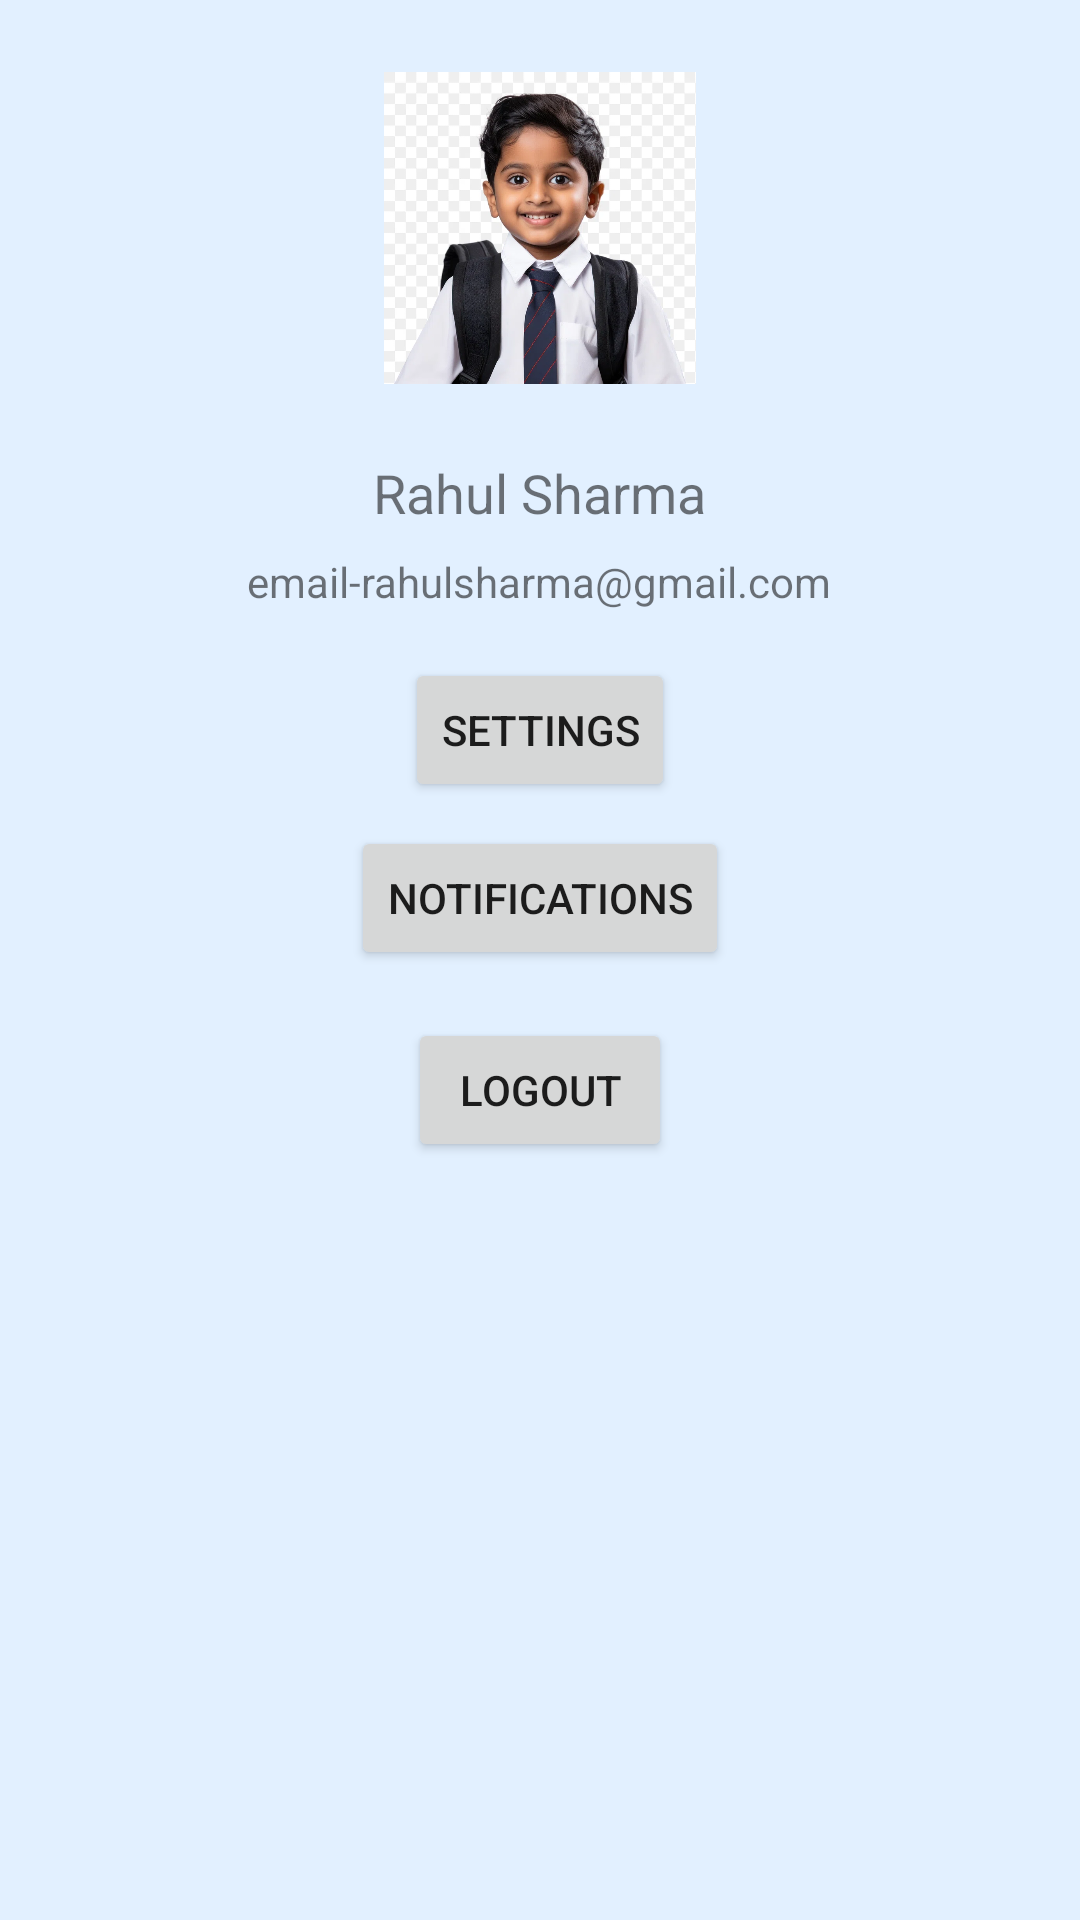

Point at icon controls on the screen. Image size 1080px x 1920px, points as [x,y].
user: [540,228]
